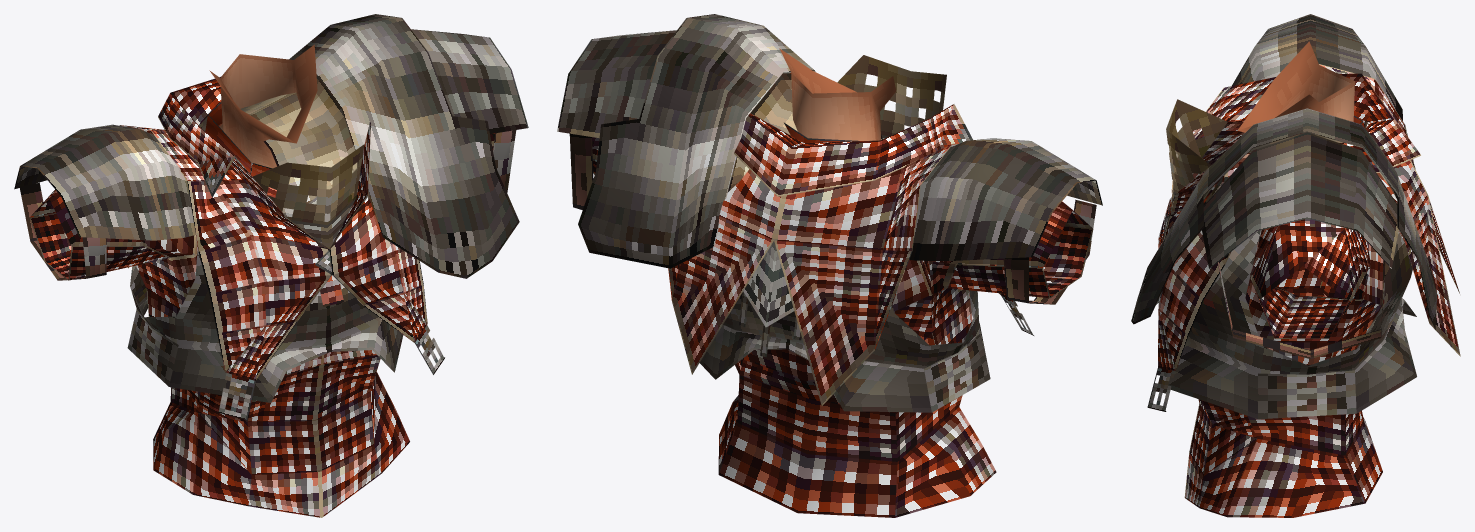
File: f_body121.glb
The picture shows the model from 3 angles, left to right: view 1: azimuth 30°, elevation 25°; view 2: azimuth 150°, elevation 25°; view 3: azimuth 270°, elevation 25°; orthographic projection. The views are drawn at different scales.
Size of the model in its own units: 66.28 by 59.41 by 40.61.
2 materials, 2 textured.
